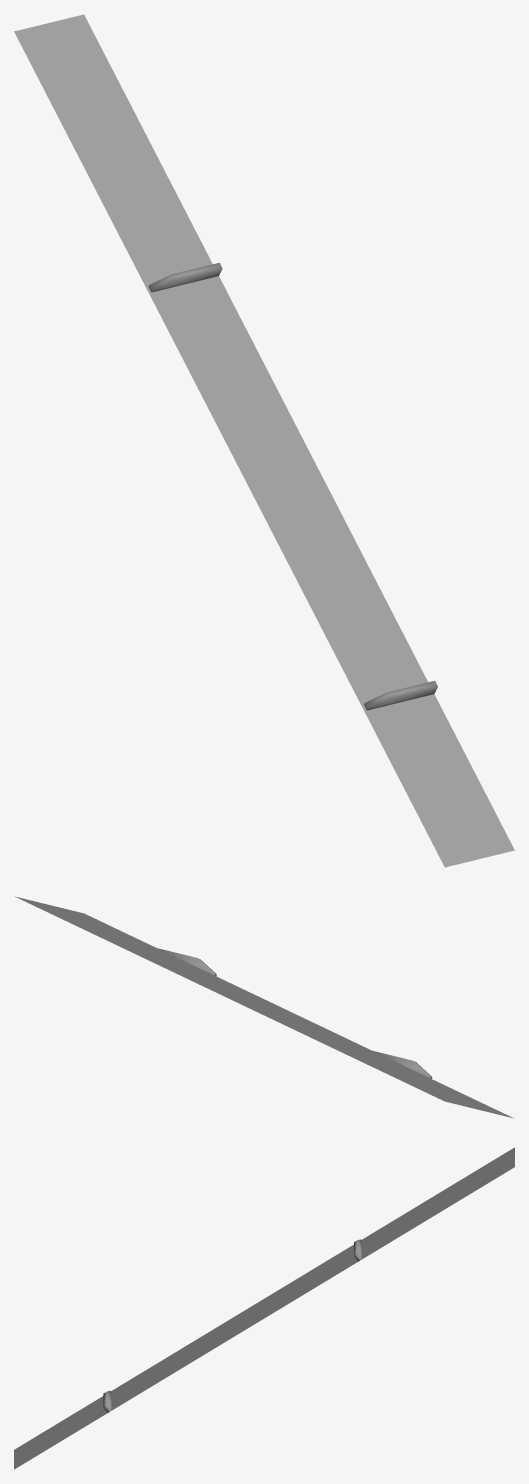
File: SW_ENV_Escalator_8Step_Connector.fbx
The picture shows the model from 3 angles, top to bottom: view 1: azimuth 30°, elevation 25°; view 2: azimuth 150°, elevation 25°; view 3: azimuth 270°, elevation 25°; orthographic projection. The views are drawn at different scales.
Parts seen in each view (by area): view 1: SW_ENV_Escalator_8Step_Connector; view 2: SW_ENV_Escalator_8Step_Connector; view 3: SW_ENV_Escalator_8Step_Connector.
Part boxes in pixels (x1,y1,x2,y2): SW_ENV_Escalator_8Step_Connector: [14, 14, 514, 867]; SW_ENV_Escalator_8Step_Connector: [15, 896, 513, 1118]; SW_ENV_Escalator_8Step_Connector: [14, 1147, 514, 1469].
Size of the model in its own units: 0.2255 by 1.6 by 2.4.
